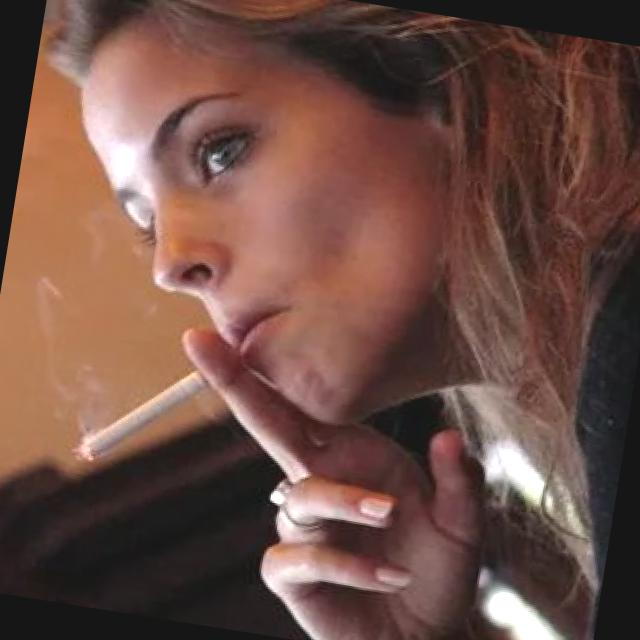cigarette: (73, 344, 214, 480)
